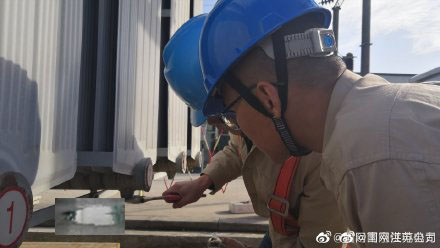oil: (54, 199, 126, 231)
